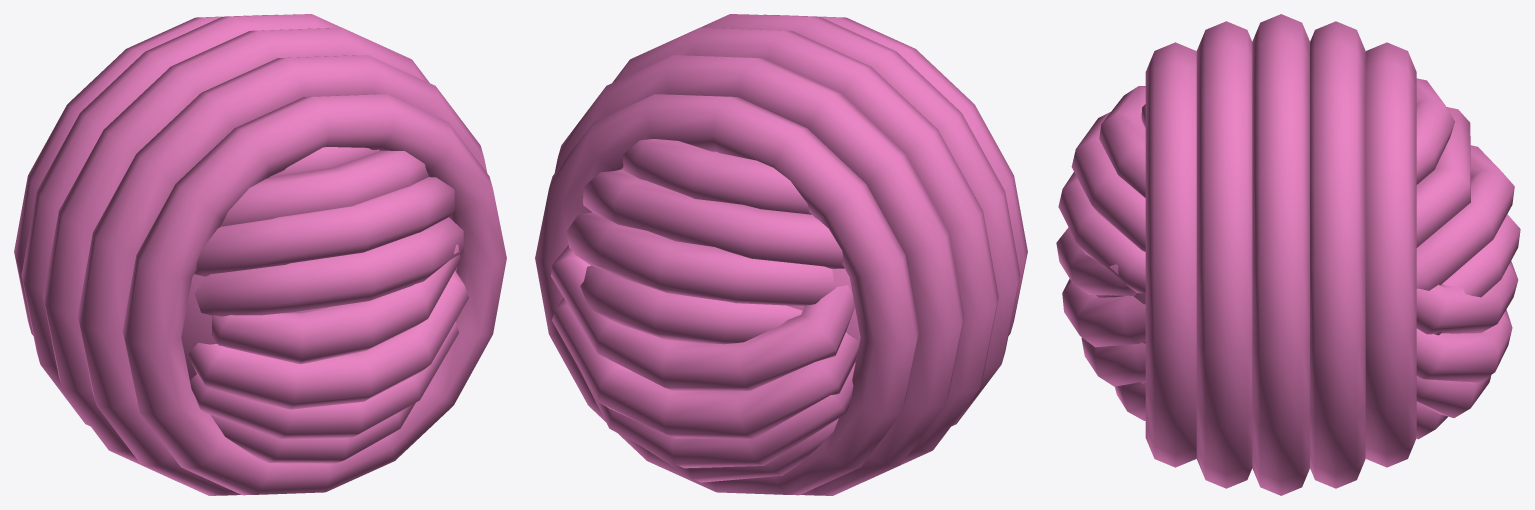
The model's file is Wool_Ball.fbx.
The picture shows the model from 3 angles, left to right: view 1: azimuth 30°, elevation 25°; view 2: azimuth 150°, elevation 25°; view 3: azimuth 270°, elevation 25°; orthographic projection. The views are drawn at different scales.
Parts seen in each view (by area): view 1: Wool_Ball; view 2: Wool_Ball; view 3: Wool_Ball.
Boxes of the visible parts, x1,y1,x2,y2 form: Wool_Ball: (14, 14, 506, 495); Wool_Ball: (535, 14, 1027, 495); Wool_Ball: (1056, 14, 1520, 495).
Bounding box in the file's own units: 1.14 × 1.14 × 1.1.
